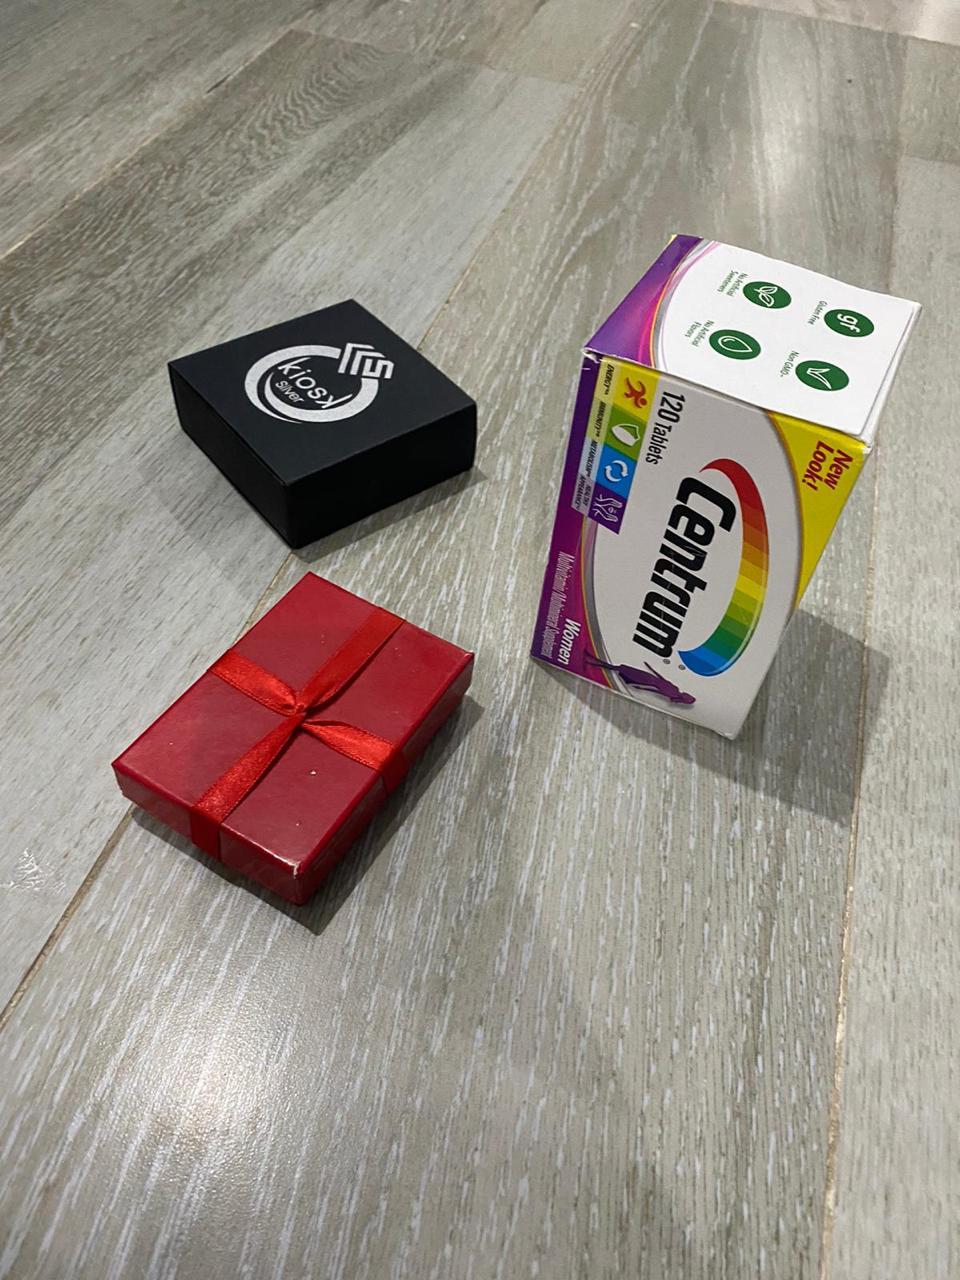Black Box: (94, 570, 493, 922)
Centrum: (523, 231, 927, 750)
Red Box: (164, 293, 484, 552)
